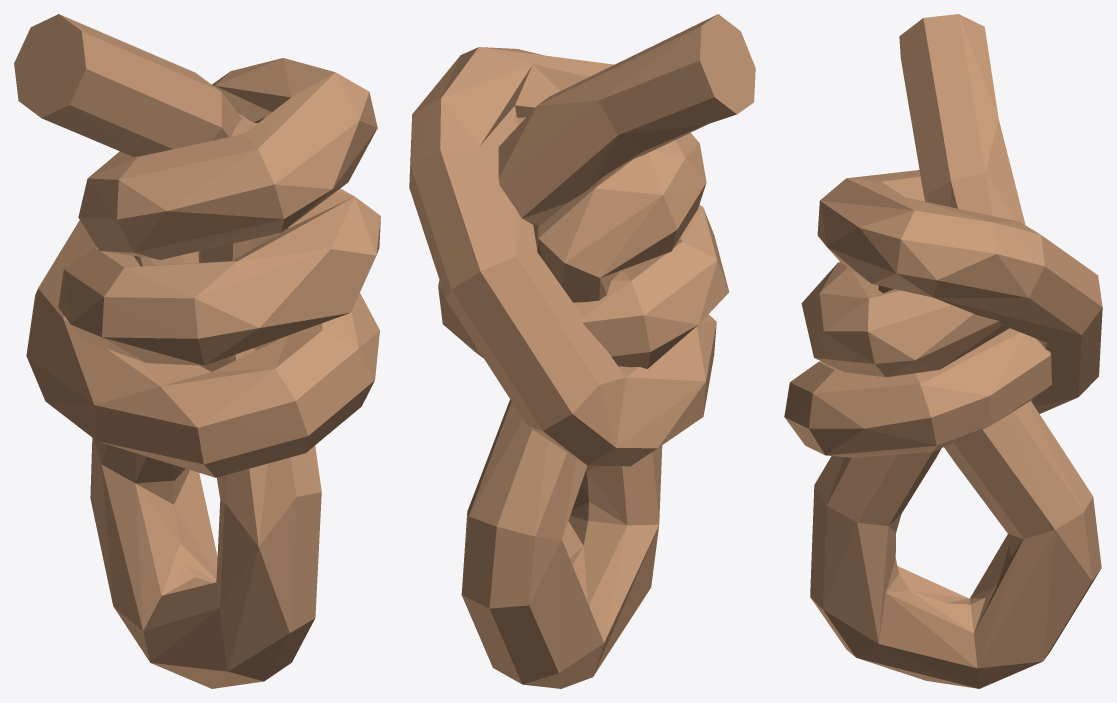
The model's file is RopeKnot.fbx.
3 renders of one model, left to right at view 1: azimuth 30°, elevation 25°; view 2: azimuth 150°, elevation 25°; view 3: azimuth 270°, elevation 25°, orthographic. The views are drawn at different scales.
Parts seen in each view (by area): view 1: RopeKnot; view 2: RopeKnot; view 3: RopeKnot.
Boxes of the visible parts, x1,y1,x2,y2 form: RopeKnot: [14, 14, 380, 688]; RopeKnot: [409, 14, 755, 688]; RopeKnot: [784, 14, 1102, 688].
Size of the model in its own units: 13.54 by 27.4 by 12.9.
